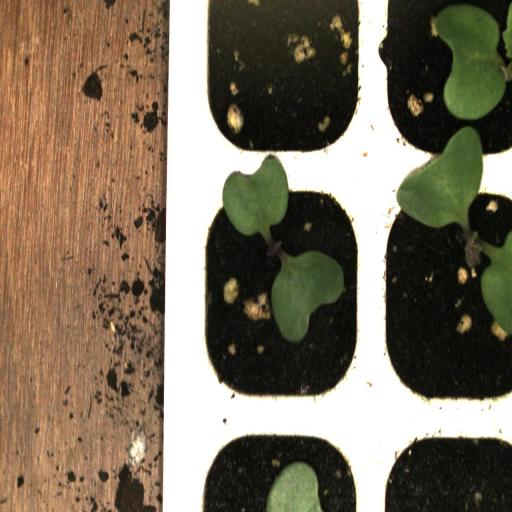Folha: (397, 3, 512, 229), (271, 250, 345, 343), (222, 158, 289, 237), (481, 232, 512, 335), (266, 461, 323, 512)
Germinacao: (194, 169, 370, 409), (372, 170, 512, 408)
